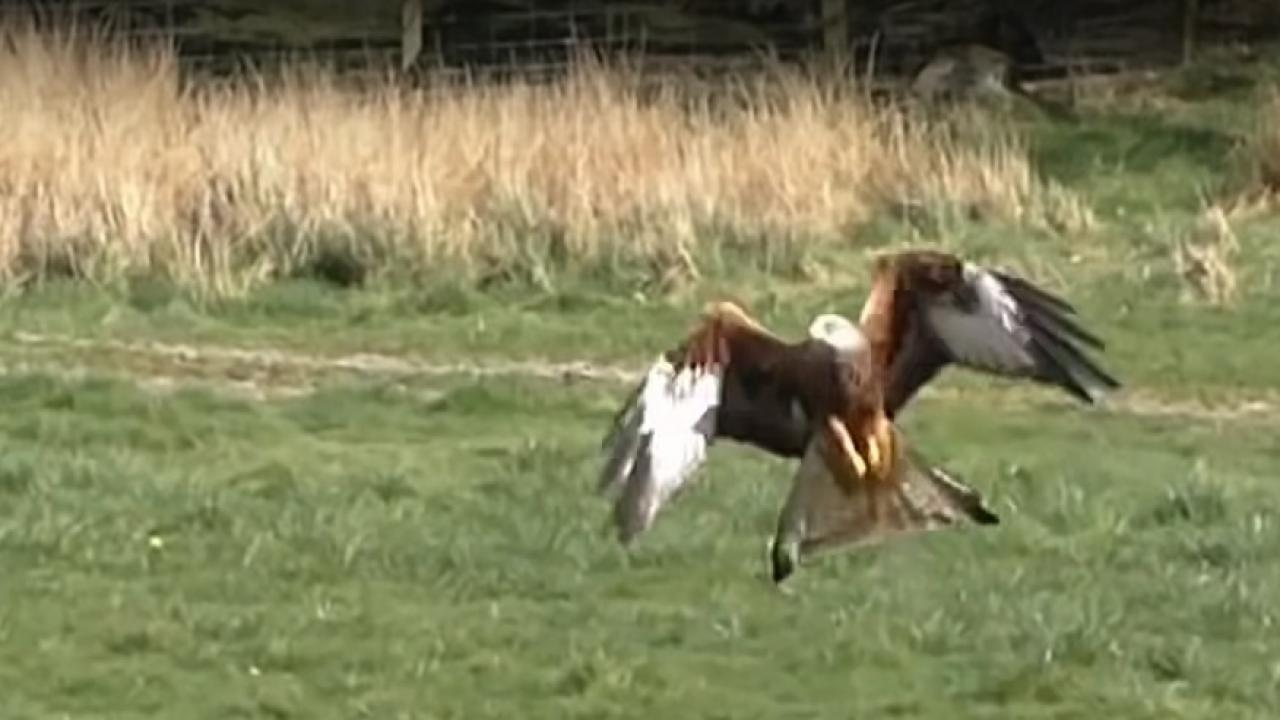Bird: (587, 242, 1137, 595)
